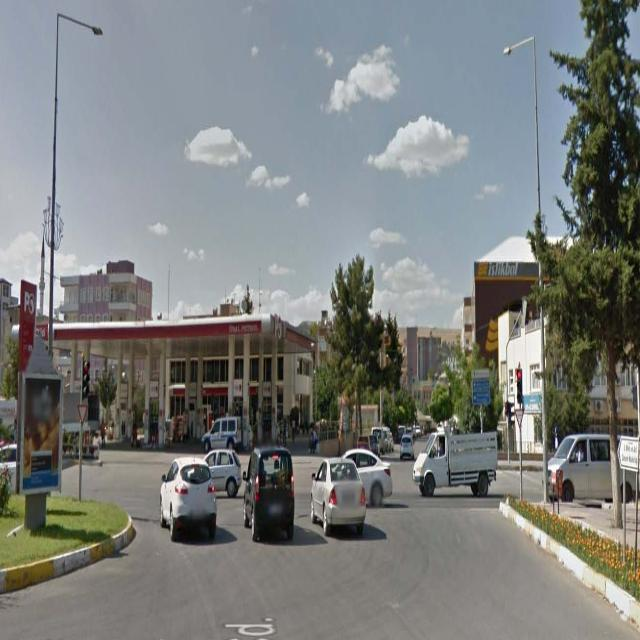kirmizi: (82, 360, 90, 396), (517, 369, 523, 402)
